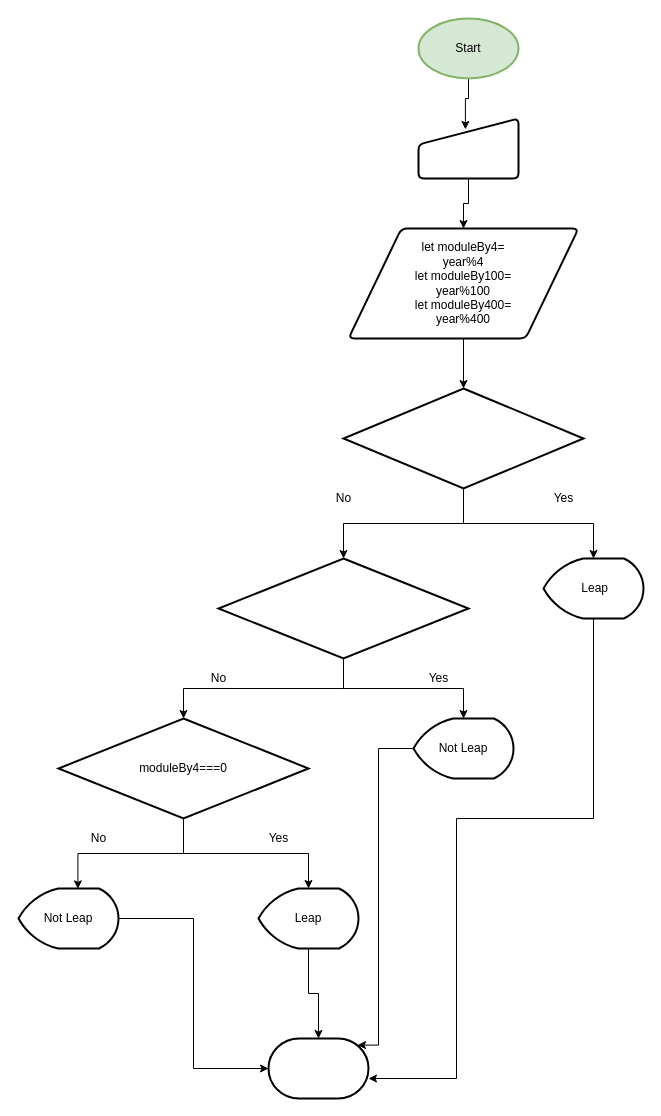
Some shapes in this 661 by 1116 pixel diagram are drawn without their labels. Here are the shapes that lost their labels. From the top down, the box of each, then its label:
(417, 117, 519, 179): year
(342, 387, 584, 489): muduleBy400===0
(217, 557, 469, 659): moduleBy100===0
(267, 1037, 369, 1099): End
